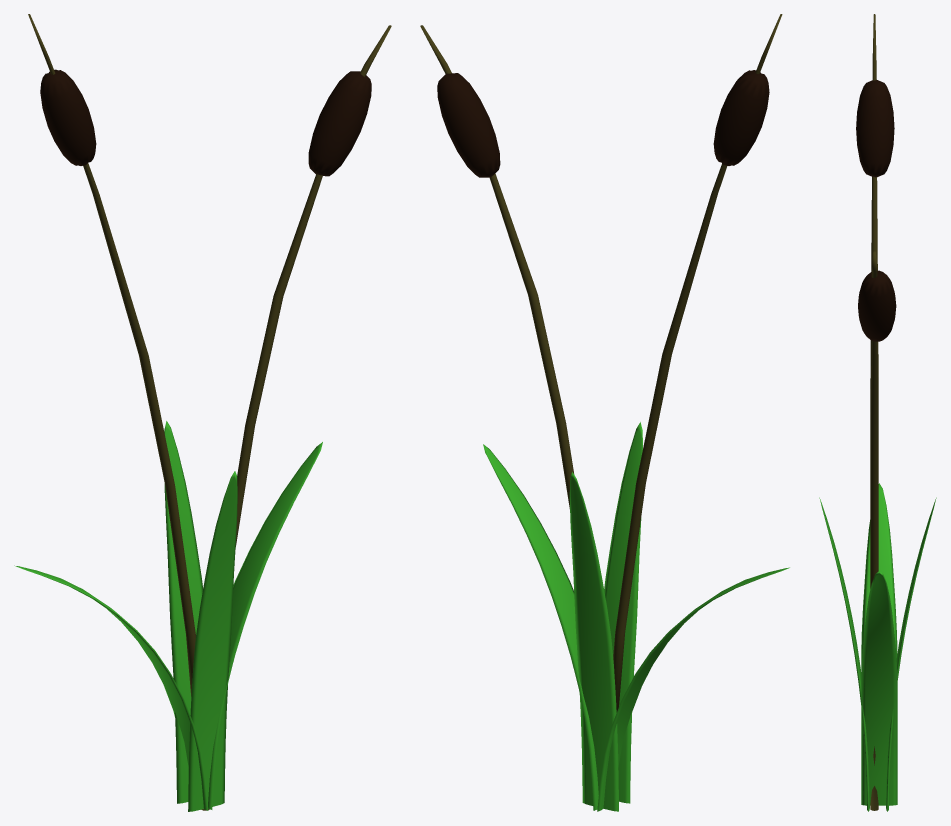
Rendered from Quenouille.FBX.
3 views of the same model, side by side, from view 1: azimuth 30°, elevation 25°; view 2: azimuth 150°, elevation 25°; view 3: azimuth 270°, elevation 25° (orthographic). The views are drawn at different scales.
Parts seen in each view (by area): view 1: Line001; view 2: Line001; view 3: Line001.
Boxes of the visible parts, <box> form: Line001: <box>14,14,391,811</box>; Line001: <box>420,14,789,811</box>; Line001: <box>819,14,936,811</box>.
Bounding box in the file's own units: 21.61 × 46.13 × 6.83.
